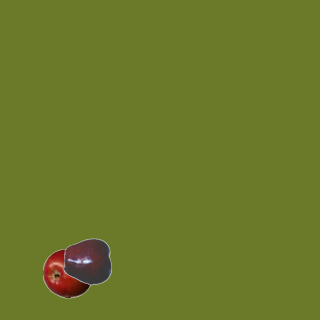Apple Braeburn: (42, 248, 92, 298)
Apple Red Delicious: (63, 236, 113, 286)
